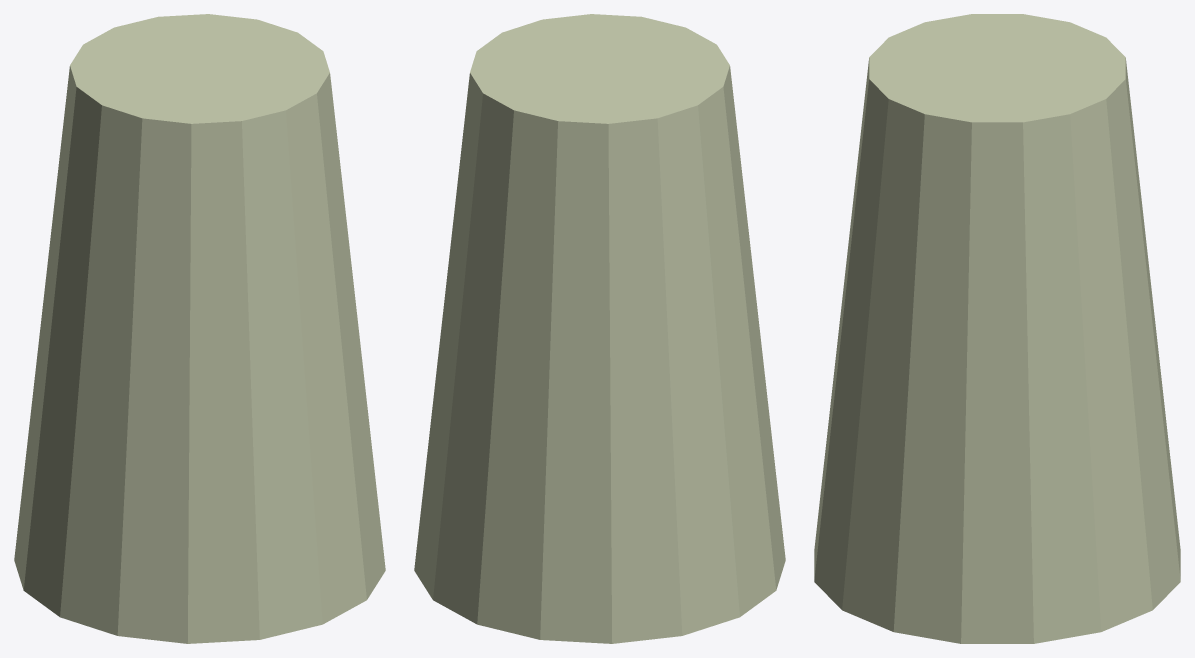
The model's file is tarazet_air_intake_s1_1_collider.obj.
3 views of the same model, side by side, from view 1: azimuth 30°, elevation 25°; view 2: azimuth 150°, elevation 25°; view 3: azimuth 270°, elevation 25° (orthographic).
Visible parts, largest first — view 1: coll; view 2: coll; view 3: coll.
Part boxes in pixels (bbox=[...]): coll: bbox=[14, 14, 385, 643]; coll: bbox=[414, 14, 785, 643]; coll: bbox=[814, 14, 1180, 643].
Bounding box in the file's own units: 1.25 × 1.88 × 1.25.
